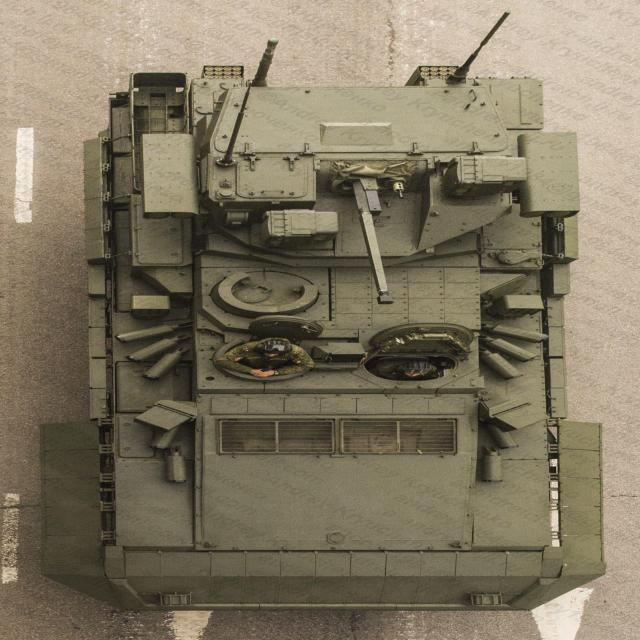Tanks: (78, 65, 606, 608)
